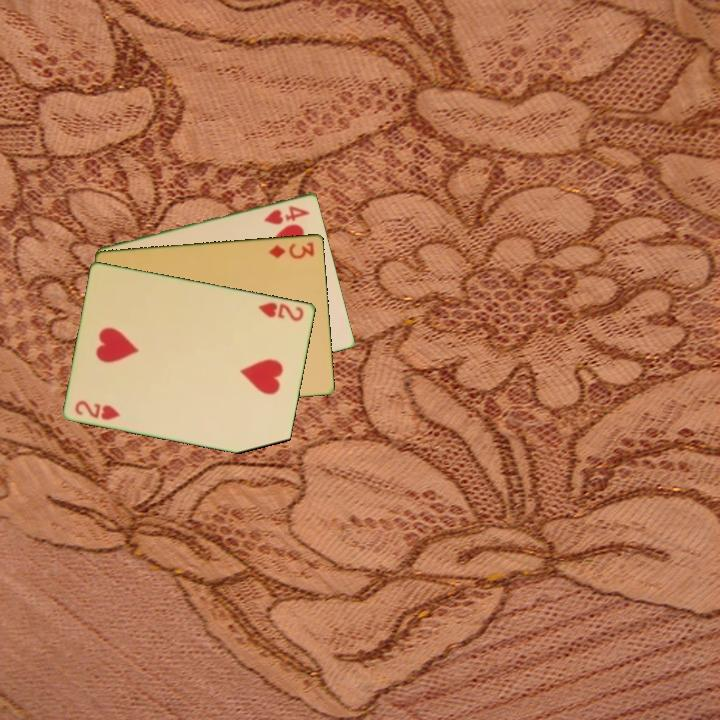2h: (72, 396, 123, 423), (255, 298, 307, 324)
3d: (266, 239, 317, 261)
4h: (261, 202, 313, 227)
